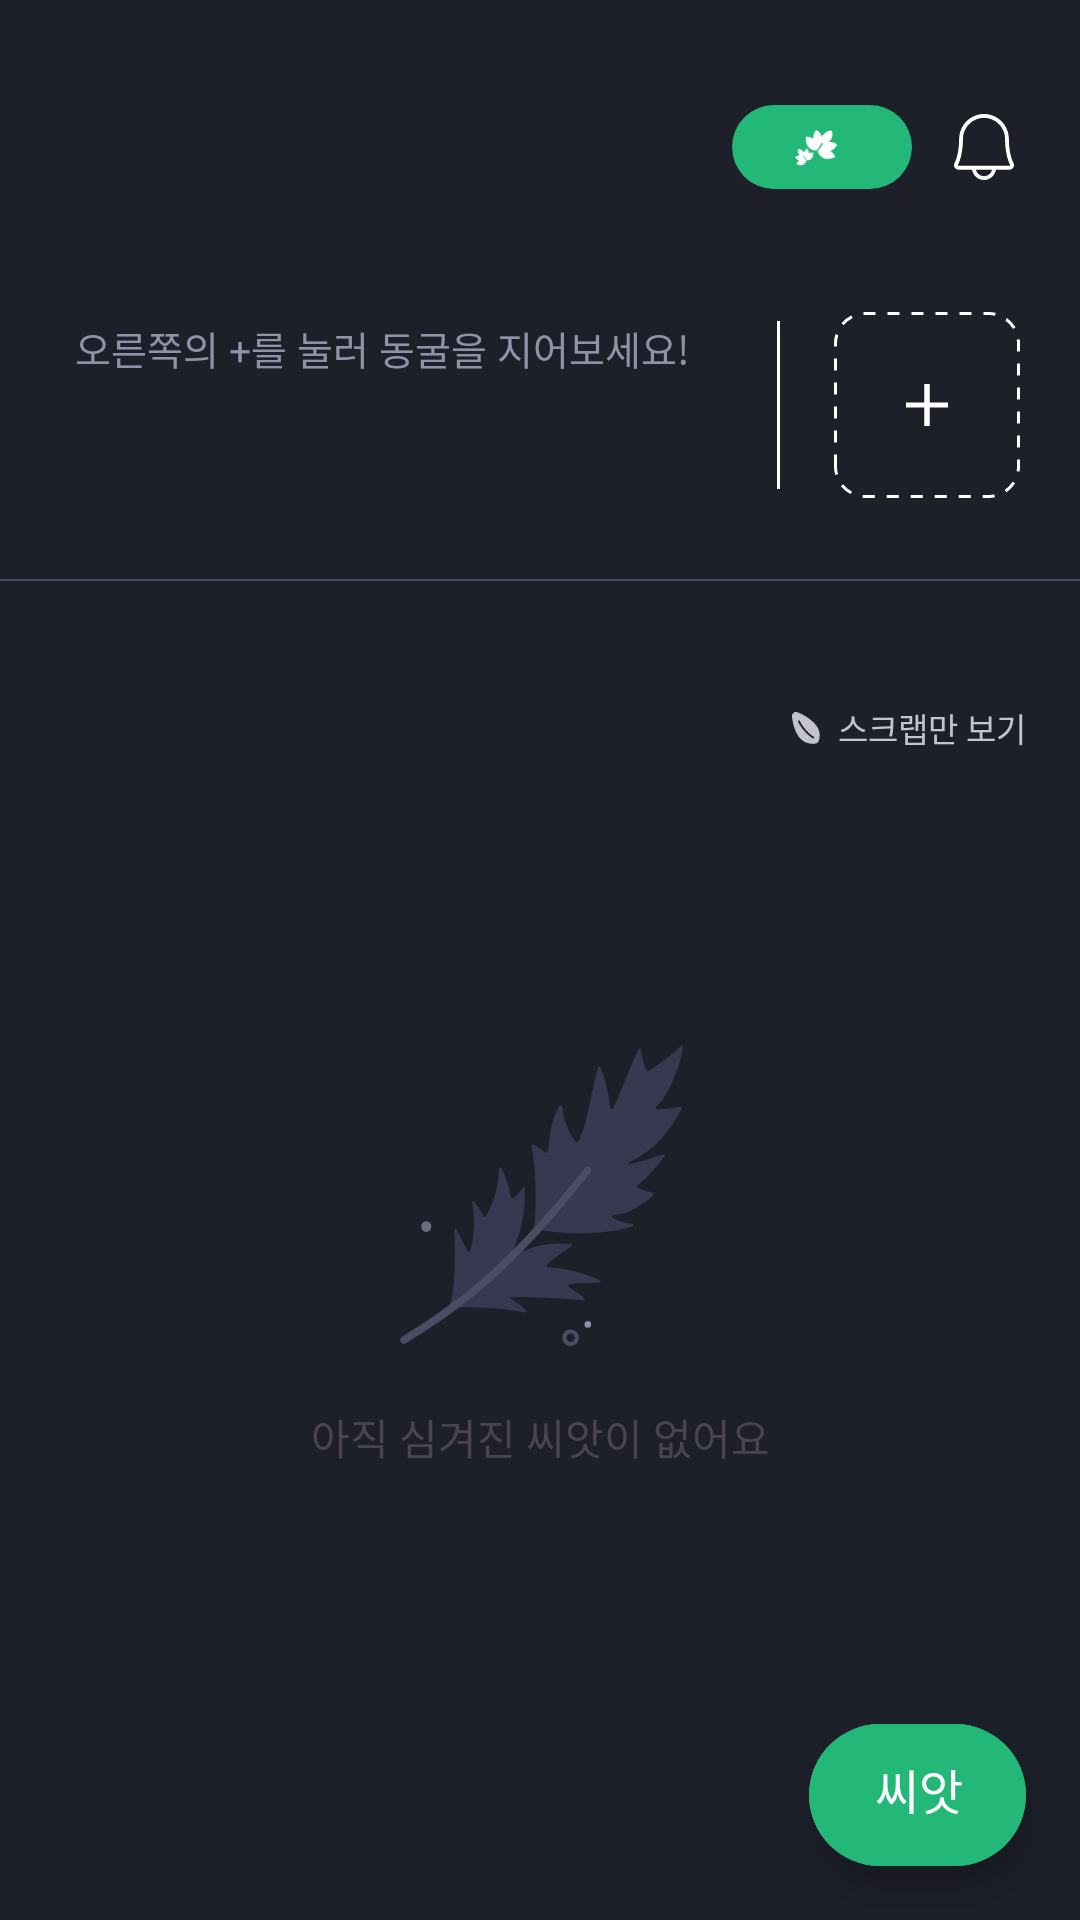

Icon bounding boxes for this 1080px x 1920px phone screenshot, format rect(x1, y1, x2, y2):
empty insight: rect(400, 1046, 683, 1346)
home add cave: rect(834, 312, 1020, 498)
home no alert: rect(954, 114, 1014, 180)
